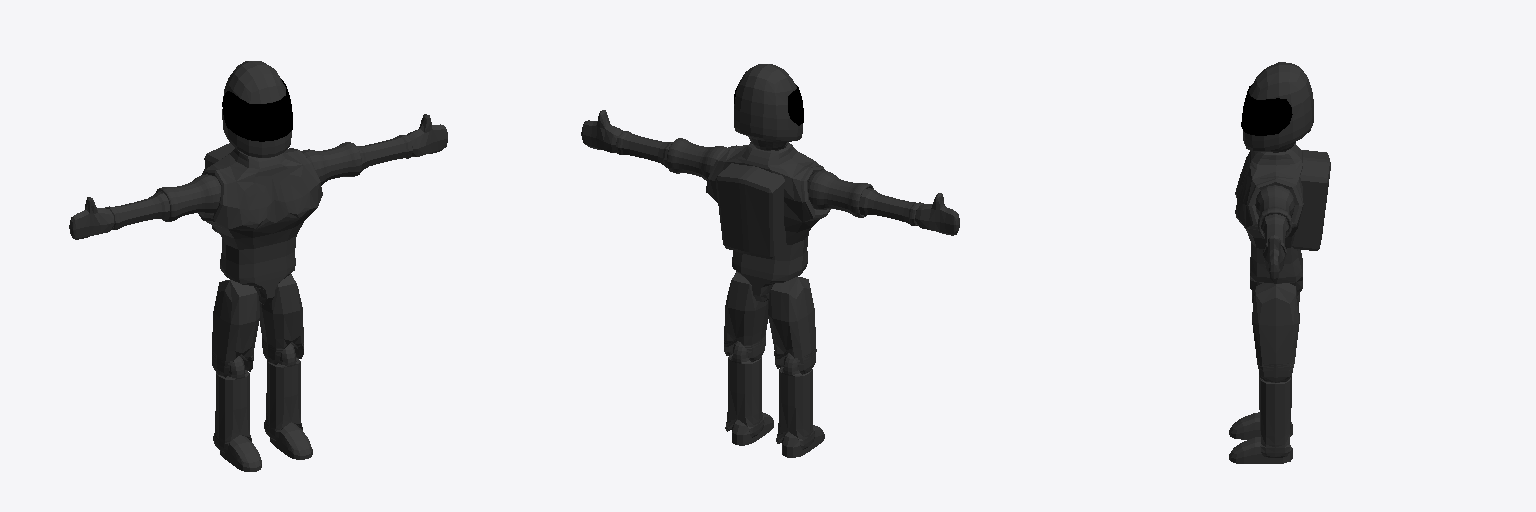
The model's file is robot.obj.
3 views of the same model, side by side, from view 1: azimuth 30°, elevation 25°; view 2: azimuth 150°, elevation 25°; view 3: azimuth 270°, elevation 25° (orthographic).
Parts seen in each view (by area): view 1: Cube, Cube.001, Cube.008, Cube.009, Cube.002_Cube.005, Cube.005, Cube.003_Cube.004, Cube.006, Cube.004, Cube.007_Cube.006; view 2: Cube, Cube.001, Cube.010_Cube.011, Cube.008, Cube.002_Cube.005, Cube.005, Cube.003_Cube.004, Cube.006, Cube.004, Cube.007_Cube.006; view 3: Cube, Cube.001, Cube.008, Cube.010_Cube.011, Cube.009, Cube.005, Cube.007_Cube.006, Cube.004.
Part boxes in pixels (x1,y1,x2,y2): Cube: (212,274,312,471); Cube.001: (198,148,322,304); Cube.008: (222,61,291,157); Cube.009: (222,79,292,141); Cube.002_Cube.005: (155,174,220,221); Cube.005: (301,142,361,185); Cube.003_Cube.004: (105,192,169,229); Cube.006: (69,197,114,239); Cube.004: (357,135,412,171); Cube.007_Cube.006: (407,114,447,156); Cube: (724,271,824,457); Cube.001: (706,142,830,301); Cube.010_Cube.011: (715,163,786,258); Cube.008: (734,64,802,150); Cube.002_Cube.005: (808,170,873,217); Cube.005: (667,138,726,180); Cube.003_Cube.004: (859,188,923,225); Cube.006: (915,193,959,235); Cube.004: (616,131,672,167); Cube.007_Cube.006: (581,110,623,152); Cube: (1229,283,1299,463); Cube.001: (1235,143,1303,295); Cube.008: (1243,62,1313,152); Cube.010_Cube.011: (1292,150,1330,250); Cube.009: (1241,85,1292,135); Cube.005: (1255,185,1294,238); Cube.007_Cube.006: (1263,235,1285,281); Cube.004: (1261,214,1288,256).
Bounding box in the file's own units: 10.46 × 10.15 × 2.46.